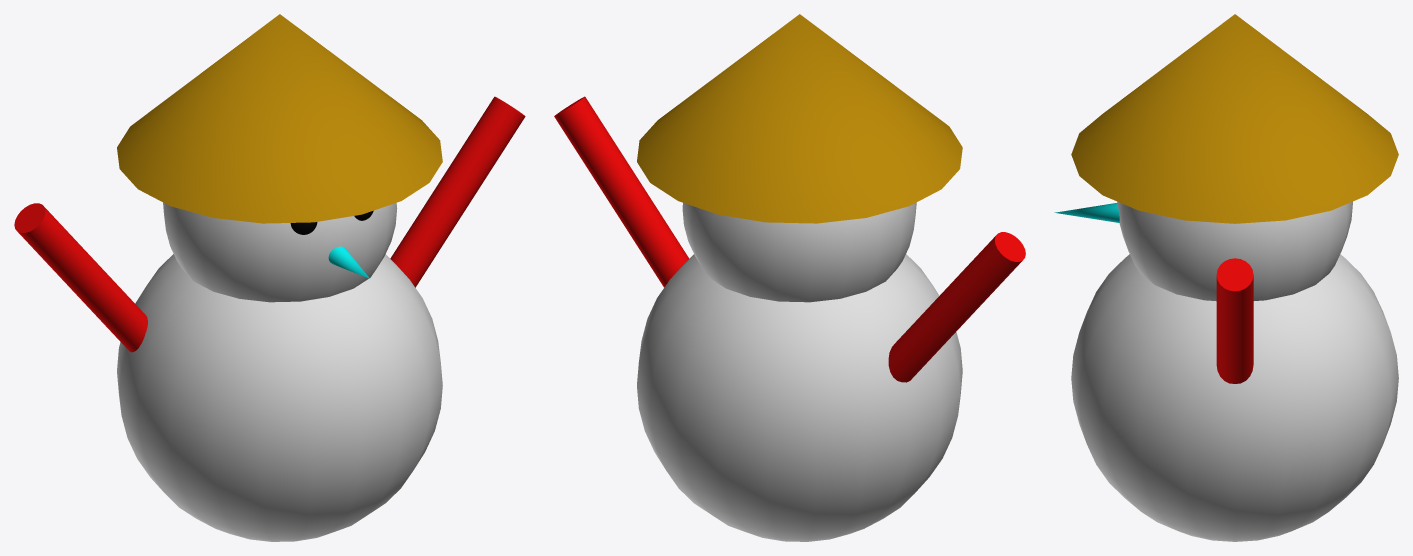
File: Snowman03 1.fbx
The picture shows the model from 3 angles, left to right: view 1: azimuth 30°, elevation 25°; view 2: azimuth 150°, elevation 25°; view 3: azimuth 270°, elevation 25°; orthographic projection.
Parts seen in each view (by area): view 1: pSphere1, pCone1, pSphere2, pCylinder1, pCylinder3; view 2: pSphere1, pCone1, pSphere2, pCylinder1, pCylinder3; view 3: pSphere1, pCone1, pSphere2, pCylinder1, pCone2.
Part boxes in pixels (bbox=[...]): pSphere1: bbox=[117, 254, 442, 541]; pCone1: bbox=[117, 14, 442, 223]; pSphere2: bbox=[163, 202, 397, 302]; pCylinder1: bbox=[390, 96, 525, 287]; pCylinder3: bbox=[14, 203, 147, 352]; pSphere1: bbox=[637, 254, 962, 541]; pCone1: bbox=[637, 14, 962, 223]; pSphere2: bbox=[682, 202, 916, 302]; pCylinder1: bbox=[554, 96, 689, 287]; pCylinder3: bbox=[888, 232, 1025, 382]; pSphere1: bbox=[1071, 254, 1398, 541]; pCone1: bbox=[1071, 14, 1398, 223]; pSphere2: bbox=[1117, 201, 1352, 301]; pCylinder1: bbox=[1216, 258, 1253, 383]; pCone2: bbox=[1054, 203, 1119, 222].
Size of the model in its own units: 3.42 by 3.45 by 2.1.
